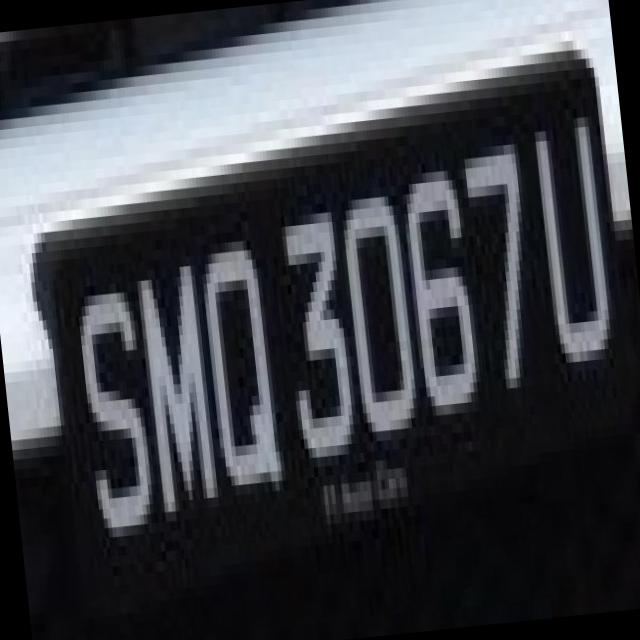0: (326, 166, 418, 434)
3: (262, 181, 367, 460)
6: (386, 140, 486, 408)
7: (449, 114, 550, 391)
D: (184, 209, 290, 488)
M: (122, 236, 222, 504)
S: (55, 262, 159, 530)
U: (516, 86, 620, 365)
